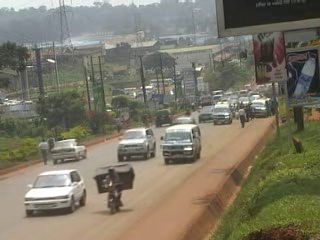Car: (23, 166, 87, 216), (114, 127, 159, 164), (50, 136, 89, 166), (171, 114, 199, 131), (196, 104, 218, 125), (154, 105, 174, 126)
Motorcycle: (90, 164, 139, 216), (182, 108, 191, 117)
